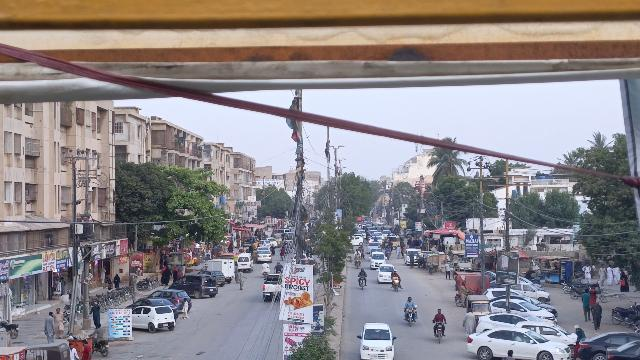Bike: (431, 320, 448, 344), (91, 340, 110, 357), (404, 307, 419, 328), (356, 275, 368, 289), (392, 278, 402, 292)
Car: (466, 327, 570, 360), (577, 331, 640, 359), (356, 322, 398, 360), (130, 304, 175, 334), (171, 274, 220, 300), (150, 287, 192, 309), (261, 272, 281, 300), (376, 264, 396, 285)
Person: (41, 309, 55, 343), (589, 299, 604, 330), (572, 324, 587, 354), (580, 288, 593, 321), (462, 305, 476, 335), (89, 299, 102, 327), (53, 306, 63, 339), (180, 296, 190, 322), (236, 268, 247, 291), (403, 293, 417, 311), (434, 308, 446, 323), (95, 323, 104, 342), (391, 268, 400, 281), (357, 268, 368, 278)
Rickshaw: (465, 293, 492, 317)
Truck: (204, 257, 235, 281)
